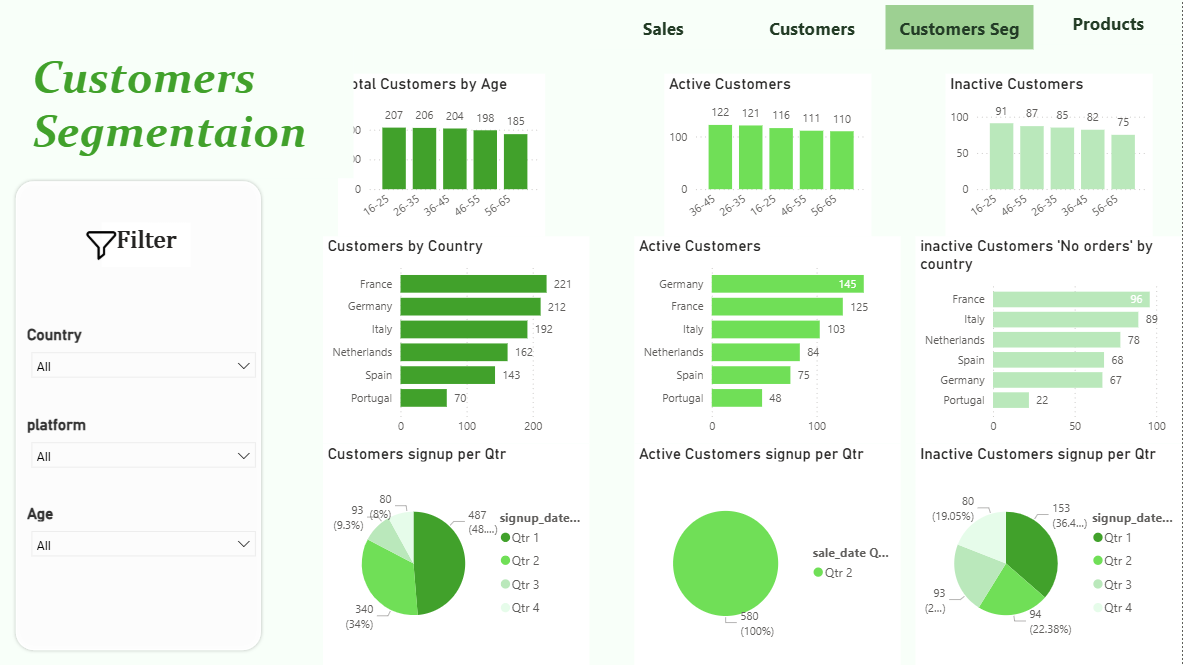

This screenshot's page, from the dashboard's own definition file:
{"tool":"powerbi","page":{"name":"Customer Seg","canvas":[1280,720],"ordinal":2},"visuals":[{"type":"pieChart","title":" Customers signup per Qtr","fields":{"Category":["dataset_fashion_store_customers.signup_date.Variation.Date Hierarchy.Quarter"],"Y":["CountNonNull(dataset_fashion_store_customers.customer_id)"]},"box":[352,480,288,240],"z":0},{"type":"clusteredBarChart","title":"inactive Customers ''No orders'' by country","fields":{"Category":["customers_no_sales.country"],"Y":["CountNonNull(customers_no_sales.customer_id)"]},"box":[992,256,288,224],"z":1000},{"type":"clusteredBarChart","title":"Customers by Country","fields":{"Category":["dataset_fashion_store_customers.country"],"Y":["CountNonNull(dataset_fashion_store_customers.customer_id)"]},"box":[352,256,288,224],"z":2000},{"type":"pieChart","title":"Inactive Customers signup per Qtr","fields":{"Category":["customers_no_sales.signup_date.Variation.Date Hierarchy.Quarter"],"Y":["CountNonNull(customers_no_sales.customer_id)"]},"box":[992,480,288,240],"z":3000},{"type":"clusteredBarChart","title":"Active Customers","fields":{"Y":["Count(dataset_fashion_store_sales.customer_id)"],"Category":["dataset_fashion_store_sales.country"]},"box":[688,256,288,224],"z":4000},{"type":"pieChart","title":"Active Customers signup per Qtr","fields":{"Category":["dataset_fashion_store_sales.sale_date.Variation.Date Hierarchy.Quarter"],"Y":["Count(dataset_fashion_store_sales.customer_id)"]},"box":[688,480,288,240],"z":5000},{"type":"columnChart","title":"Inactive Customers","fields":{"Category":["customers_no_sales.age_range"],"Y":["CountNonNull(customers_no_sales.customer_id)"]},"box":[1024,80,224,176],"z":6000},{"type":"columnChart","title":"Active Customers","fields":{"Category":["dataset_fashion_store_customers.age_range"],"Y":["Count(dataset_fashion_store_sales.customer_id)"]},"box":[720,80,224,176],"z":7000},{"type":"columnChart","title":"Total Customers by Age","fields":{"Category":["dataset_fashion_store_customers.age_range"],"Y":["Count(dataset_fashion_store_customers.customer_id)"]},"box":[368,80,224,176],"z":8000},{"type":"actionButton","box":[639.4,5.5,160,48],"z":9000},{"type":"actionButton","box":[799.4,5.5,160,48],"z":10000},{"type":"actionButton","box":[1120,0,160,48],"z":11000},{"type":"actionButton","box":[959.4,5.5,160,48],"z":12000},{"type":"shape","box":[0,192,288,528],"z":13000},{"type":"textbox","box":[112,240,96,48],"z":14000},{"type":"image","box":[80,240,64,48],"z":15000},{"type":"slicer","title":"Country","fields":{"Values":["dataset_fashion_store_customers.country"]},"box":[16,352,272,80],"z":16000},{"type":"slicer","title":"platform","fields":{"Values":["dataset_fashion_store_sales.channel"]},"box":[16,448,272,64],"z":17000},{"type":"slicer","title":"Age","fields":{"Values":["dataset_fashion_store_customers.age_range"]},"box":[16,544,272,64],"z":18000},{"type":"textbox","box":[32,48,352,144],"z":19000}]}

Visuals, with their boxes in screenshot pixels (x1, y1, x2, y2), scaled from the page's 1280x720 canvas onto the 1183x665 screenshot:
" Customers signup per Qtr" pieChart: <box>325,443,592,664</box>
"inactive Customers ''No orders'' by country" clusteredBarChart: <box>917,236,1182,443</box>
"Customers by Country" clusteredBarChart: <box>325,236,592,443</box>
"Inactive Customers signup per Qtr" pieChart: <box>917,443,1182,664</box>
"Active Customers" clusteredBarChart: <box>636,236,902,443</box>
"Active Customers signup per Qtr" pieChart: <box>636,443,902,664</box>
"Inactive Customers" columnChart: <box>946,74,1153,236</box>
"Active Customers" columnChart: <box>665,74,872,236</box>
"Total Customers by Age" columnChart: <box>340,74,547,236</box>
actionButton: <box>591,5,739,49</box>
actionButton: <box>739,5,887,49</box>
actionButton: <box>1035,0,1182,44</box>
actionButton: <box>887,5,1035,49</box>
shape: <box>0,177,266,664</box>
textbox: <box>104,222,192,266</box>
image: <box>74,222,133,266</box>
"Country" slicer: <box>15,325,266,399</box>
"platform" slicer: <box>15,414,266,473</box>
"Age" slicer: <box>15,502,266,562</box>
textbox: <box>30,44,355,177</box>
